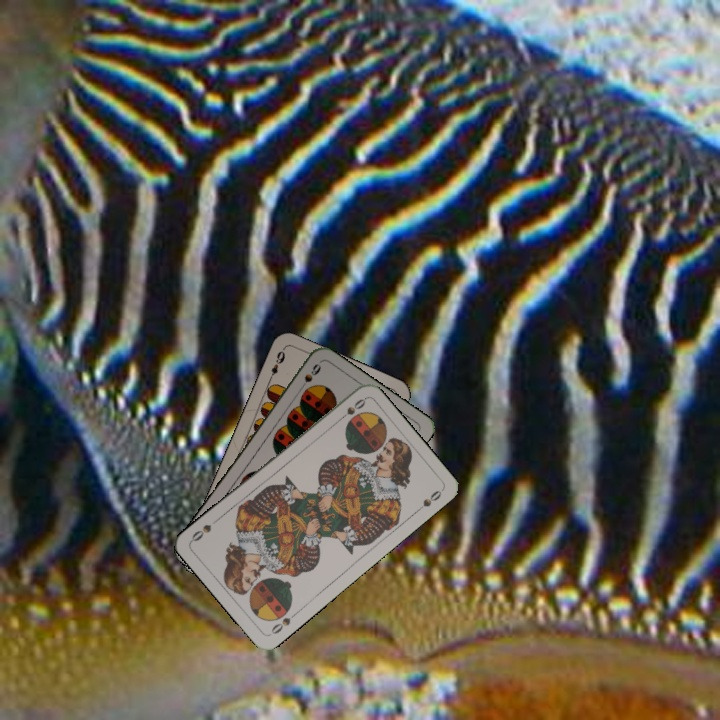E9: (265, 347, 288, 384)
S9: (295, 359, 324, 395)
SO: (333, 394, 368, 425), (266, 608, 300, 637)
